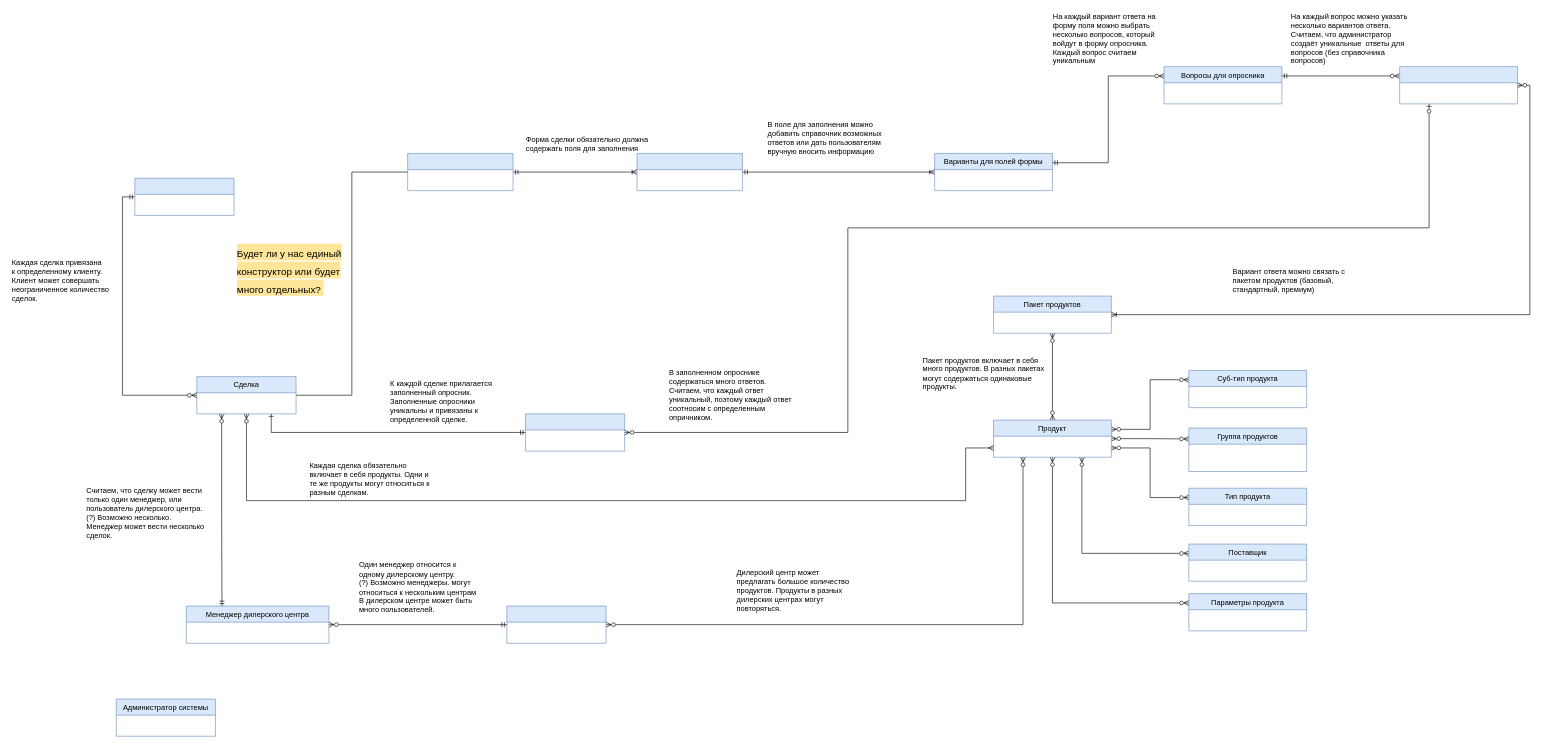
This 1546x747 diagram has some shape labels left out. Each missing label, with the centre of its shape:
"Дилерский центр" belongs at point 556,624.
"Заполненный опросник" belongs at point 575,432.
"Клиент" belongs at point 184,196.
"Ответы для опросника" belongs at point 1458,85.
"Поля формы" belongs at point 689,172.
"Форма сделки" belongs at point 460,172.
